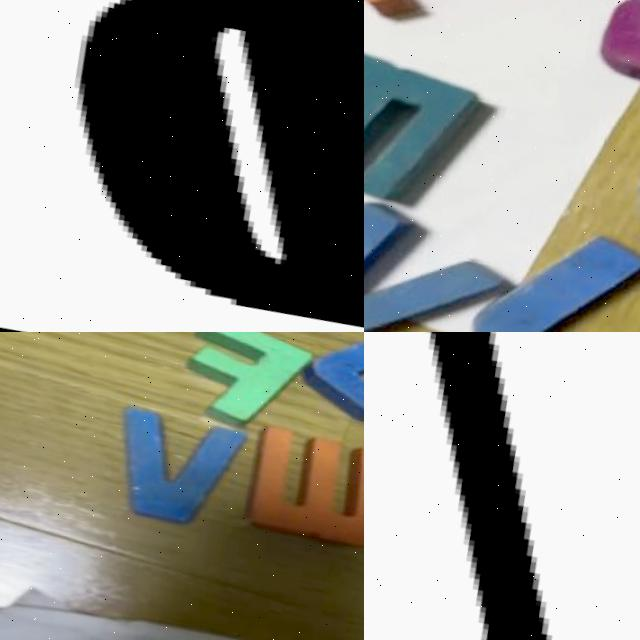1: (364, 332, 640, 640)
B: (68, 0, 364, 332)
F: (169, 332, 329, 442)
J: (457, 211, 640, 332), (281, 332, 364, 438)
M: (364, 25, 480, 212)
V: (94, 400, 244, 547), (364, 176, 503, 332)
W: (224, 418, 364, 566)
